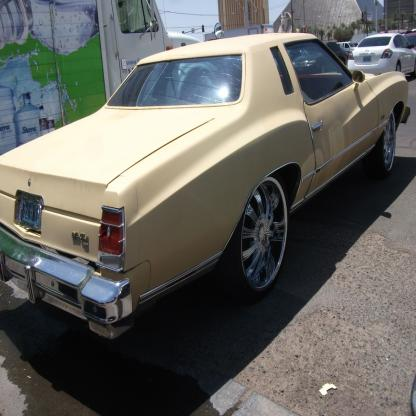Car: (1, 36, 412, 339), (349, 36, 416, 77), (406, 32, 416, 52)
